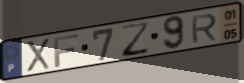7: (91, 26, 116, 62)
9: (162, 15, 186, 52)
F: (52, 32, 81, 69)
R: (190, 12, 219, 45)
X: (24, 37, 52, 74)
Z: (120, 19, 152, 58)
